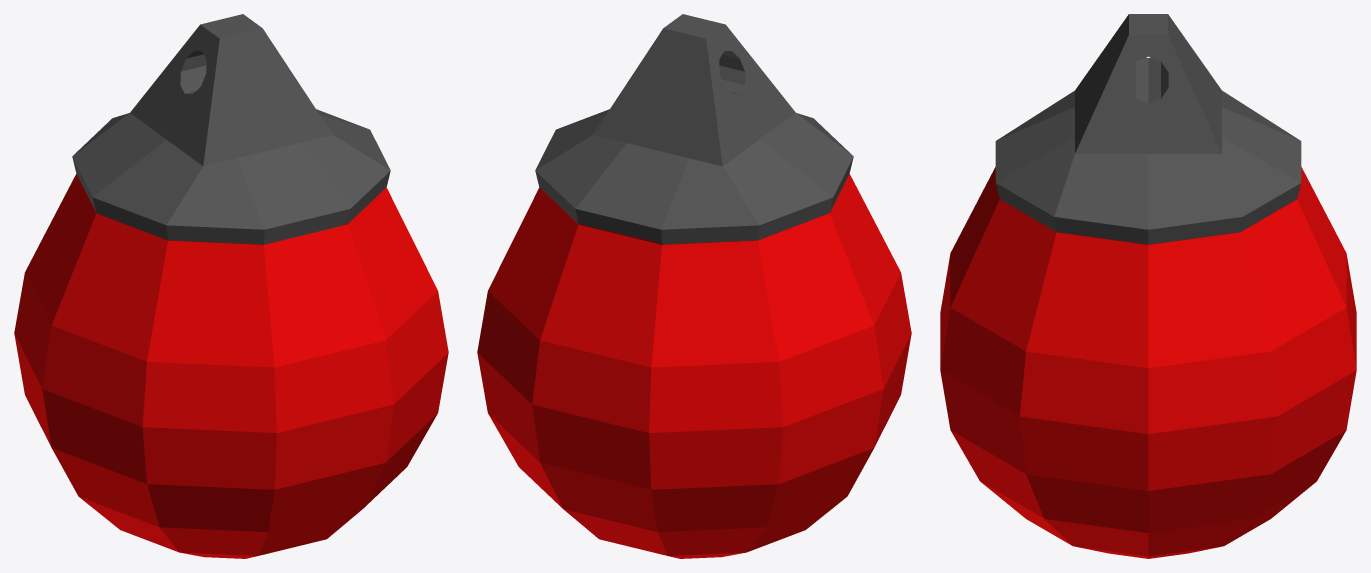
Rendered from boya_model.fbx.
The picture shows the model from 3 angles, left to right: view 1: azimuth 30°, elevation 25°; view 2: azimuth 150°, elevation 25°; view 3: azimuth 270°, elevation 25°; orthographic projection.
Visible parts, largest first — view 1: boya; view 2: boya; view 3: boya.
Part boxes in pixels (left/top/right/bottom): boya: left=14, top=14, right=448, bottom=558; boya: left=477, top=14, right=911, bottom=558; boya: left=940, top=14, right=1356, bottom=558.
Size of the model in its own units: 210 by 272 by 199.
